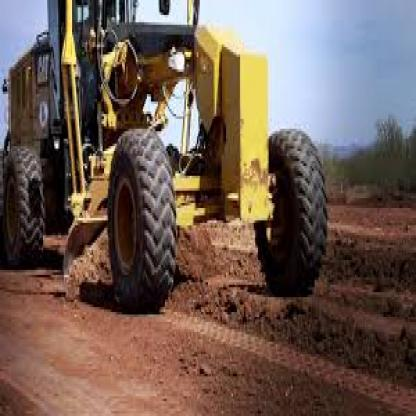bull_dozer/loader/grader: (2, 3, 332, 349)
